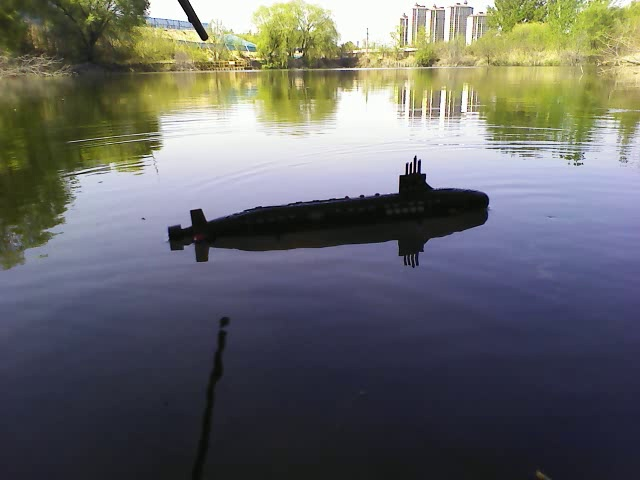submarine: (164, 155, 493, 243)
